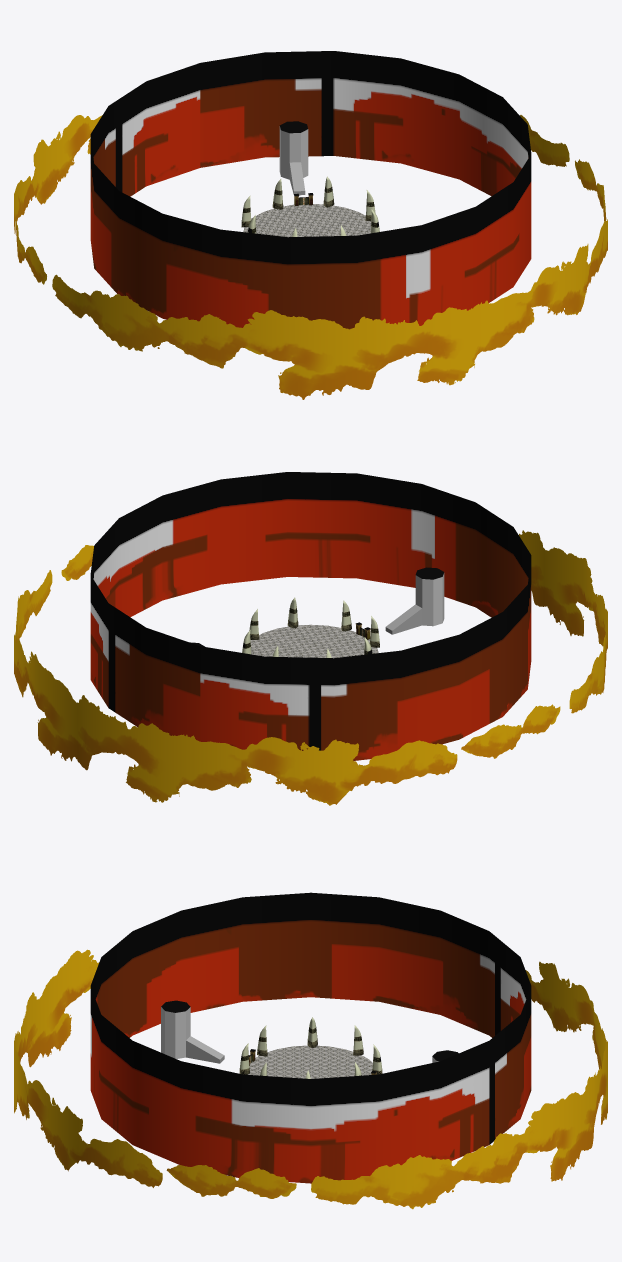
The model's file is GymCastleLevelV1.fbx.
The picture shows the model from 3 angles, top to bottom: view 1: azimuth 30°, elevation 25°; view 2: azimuth 150°, elevation 25°; view 3: azimuth 270°, elevation 25°; orthographic projection.
Parts seen in each view (by area): view 1: pCylinder5, pCylinder6, polySurface1, pCylinder4; view 2: pCylinder5, pCylinder6, polySurface1, polySurface20, polySurface19; view 3: pCylinder5, pCylinder6, polySurface1, polySurface20, polySurface21.
Part boxes in pixels (x1=…): pCylinder5: x1=90, y1=51, x2=531, y2=329; pCylinder6: x1=14, y1=115, x2=607, y2=399; polySurface1: x1=243, y1=204, x2=371, y2=237; pCylinder4: x1=279, y1=121, x2=308, y2=195; pCylinder5: x1=90, y1=472, x2=531, y2=760; pCylinder6: x1=14, y1=530, x2=607, y2=805; polySurface1: x1=250, y1=624, x2=378, y2=658; polySurface20: x1=415, y1=567, x2=444, y2=626; polySurface19: x1=385, y1=606, x2=422, y2=634; pCylinder5: x1=90, y1=892, x2=531, y2=1183; pCylinder6: x1=14, y1=949, x2=607, y2=1209; polySurface1: x1=248, y1=1045, x2=372, y2=1078; polySurface20: x1=161, y1=1000, x2=190, y2=1058; polySurface21: x1=186, y1=1036, x2=224, y2=1062.
Size of the model in its own units: 2071 by 542 by 2071.
